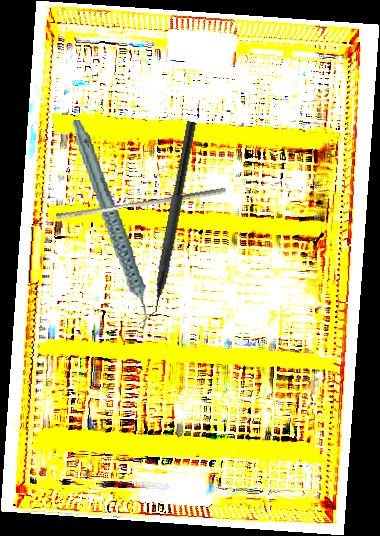Chopper: (136, 118, 197, 329)
Handpiece: (70, 114, 151, 335)
Pusher: (55, 180, 227, 227)
